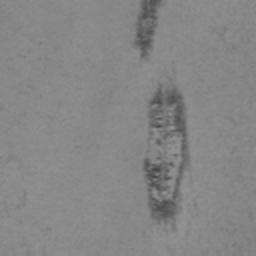Oxide scale of plate system: (142, 81, 192, 228), (132, 0, 164, 58)
